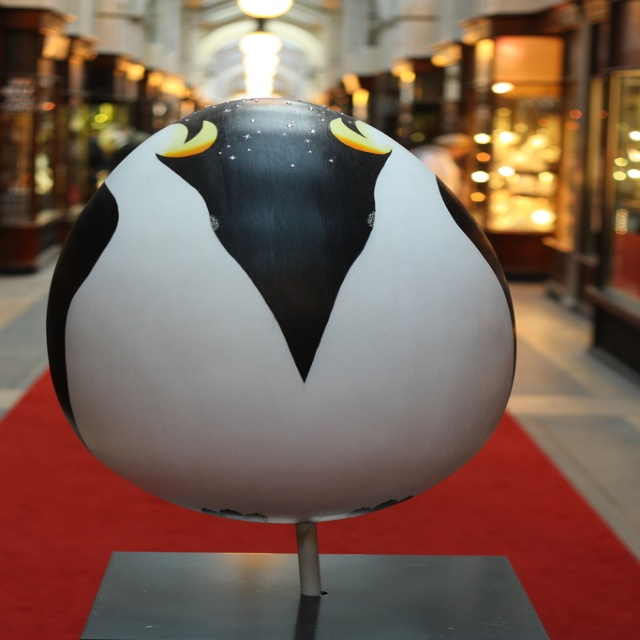Penguin: (100, 78, 480, 525)
